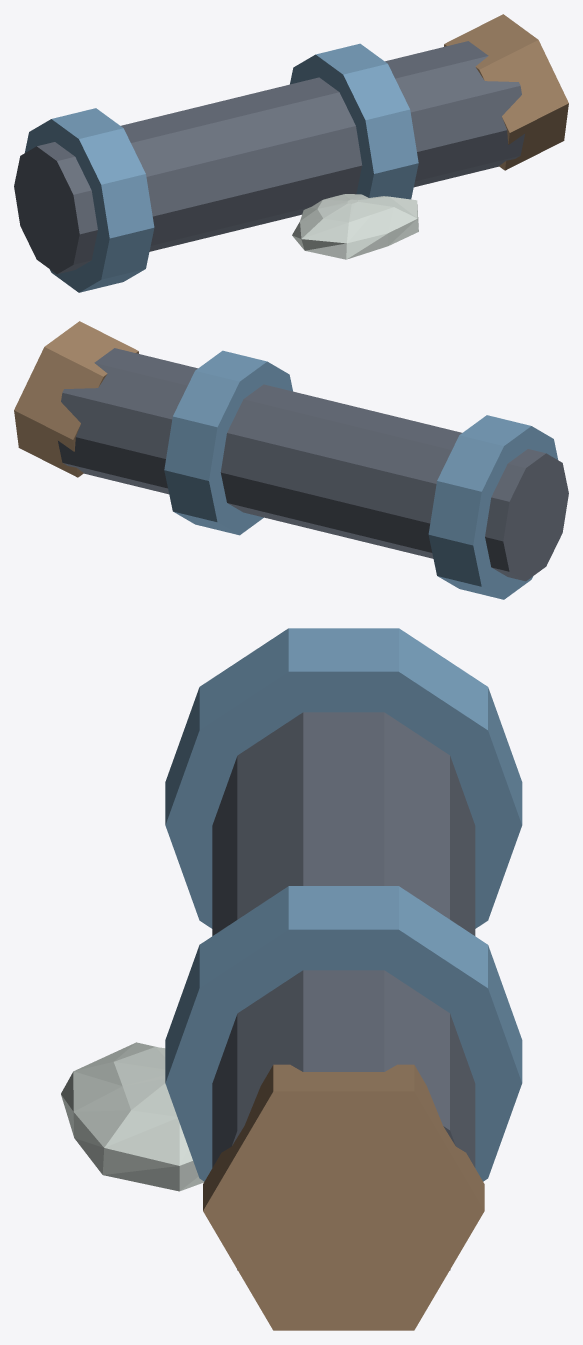
Rendered from pipe_segment.glb.
3 views of the same model, one above another, from view 1: azimuth 30°, elevation 25°; view 2: azimuth 150°, elevation 25°; view 3: azimuth 270°, elevation 25° (orthographic). The views are drawn at different scales.
Parts seen in each view (by area): view 1: DL010_PipeSegment_metal_dark, DL010_PipeSegment_faded_blue, DL010_PipeSegment_corrosion, DL010_PipeSegment_mineral; view 2: DL010_PipeSegment_metal_dark, DL010_PipeSegment_faded_blue, DL010_PipeSegment_corrosion; view 3: DL010_PipeSegment_faded_blue, DL010_PipeSegment_metal_dark, DL010_PipeSegment_corrosion, DL010_PipeSegment_mineral.
Boxes of the visible parts, box(x1,y1,x2,y2) form: DL010_PipeSegment_metal_dark: box(14, 41, 524, 274); DL010_PipeSegment_faded_blue: box(25, 43, 418, 292); DL010_PipeSegment_corrosion: box(444, 14, 568, 170); DL010_PipeSegment_mineral: box(292, 194, 418, 259); DL010_PipeSegment_metal_dark: box(58, 348, 568, 581); DL010_PipeSegment_faded_blue: box(164, 350, 557, 599); DL010_PipeSegment_corrosion: box(14, 321, 138, 477); DL010_PipeSegment_faded_blue: box(165, 628, 522, 1181); DL010_PipeSegment_metal_dark: box(212, 712, 475, 1270); DL010_PipeSegment_corrosion: box(203, 1064, 484, 1330); DL010_PipeSegment_mineral: box(61, 1042, 203, 1191).
Size of the model in its own units: 2.46 by 0.7228 by 0.9829.
